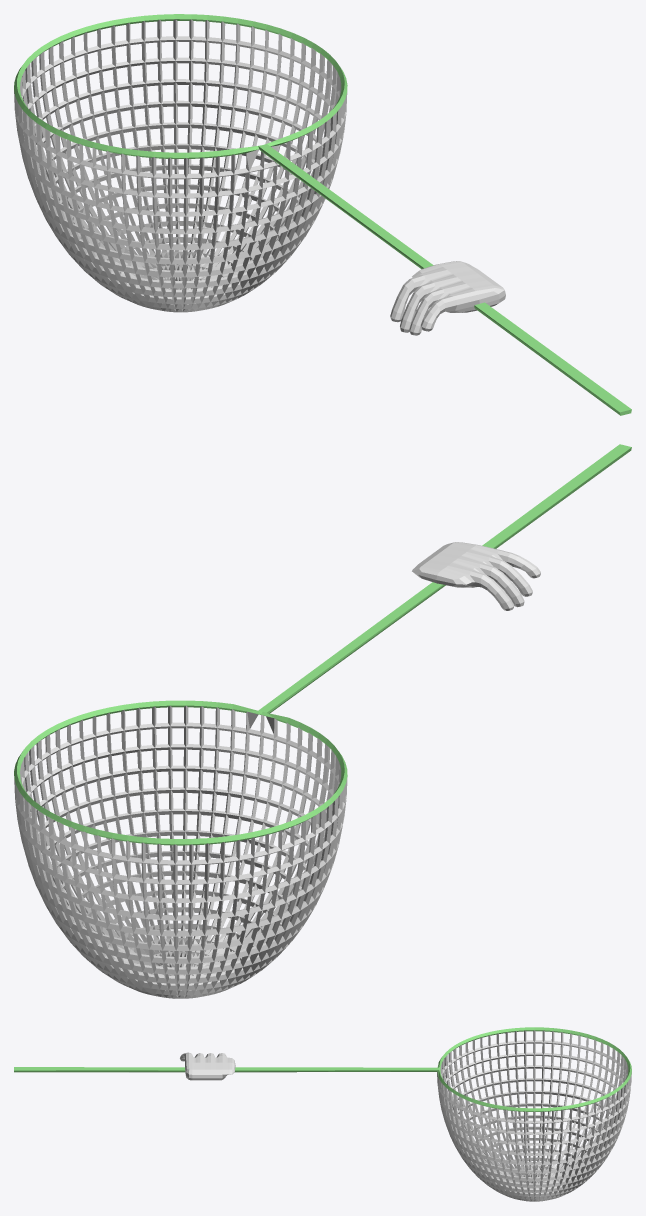
File: netv2.fbx
3 views of the same model, one above another, from view 1: azimuth 30°, elevation 25°; view 2: azimuth 150°, elevation 25°; view 3: azimuth 270°, elevation 25° (orthographic). The views are drawn at different scales.
Parts seen in each view (by area): view 1: Sphere, Cube; view 2: Sphere, Cube; view 3: Sphere, Cube.
Boxes of the visible parts, x1,y1,x2,y2 form: Sphere: (14, 14, 631, 415); Cube: (390, 261, 505, 335); Sphere: (14, 444, 631, 998); Cube: (412, 542, 540, 610); Sphere: (14, 1027, 631, 1201); Cube: (180, 1052, 235, 1080).
Bounding box in the file's own units: 144 × 108 × 456.
